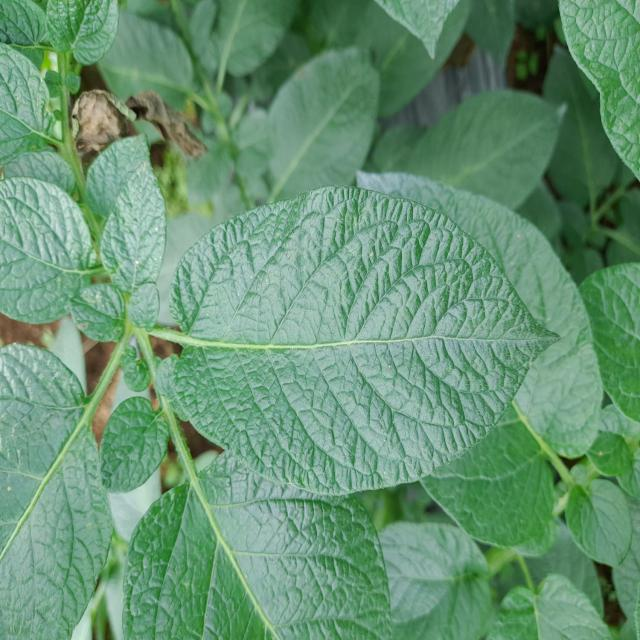healthy: (159, 183, 562, 499)
